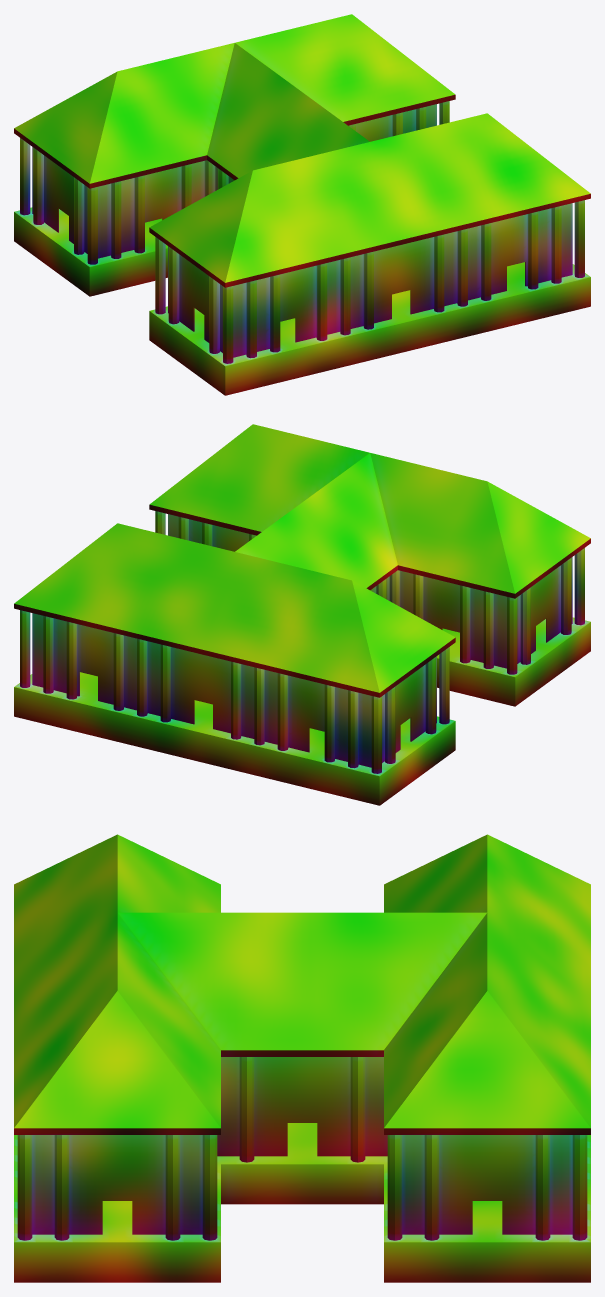
The model's file is MS_BuildingLarge_05.fbx.
3 views of the same model, one above another, from view 1: azimuth 30°, elevation 25°; view 2: azimuth 150°, elevation 25°; view 3: azimuth 270°, elevation 25° (orthographic). The views are drawn at different scales.
Parts seen in each view (by area): view 1: MS_BuildingLarge_05; view 2: MS_BuildingLarge_05; view 3: MS_BuildingLarge_05.
Part boxes in pixels (x1=…): MS_BuildingLarge_05: x1=14, y1=14, x2=590, y2=395; MS_BuildingLarge_05: x1=14, y1=424, x2=590, y2=805; MS_BuildingLarge_05: x1=14, y1=834, x2=590, y2=1282.
Size of the model in its own units: 7800 by 3700 by 7800.
